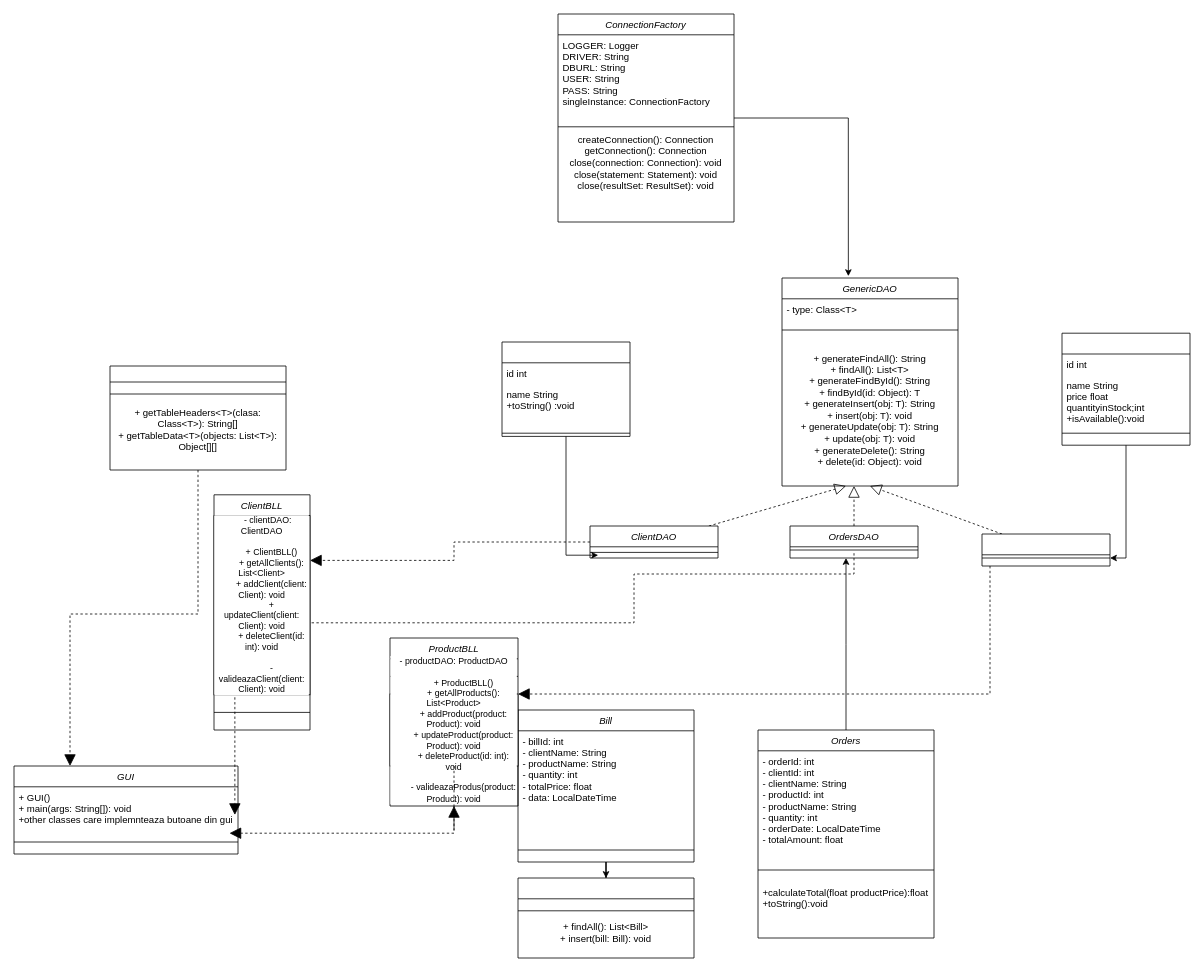
The diagram is 1204 pixels wide and 972 high, and some of its shapes have lost their labels. The box of each missing label's shape, as (x1, y1, x2, y2) in pixels:
BillDAO: (517, 877, 694, 958)
Client: (501, 341, 630, 436)
Product: (1061, 332, 1190, 445)
ProductDAO: (981, 533, 1110, 566)
TableBuilder: (109, 365, 286, 470)
